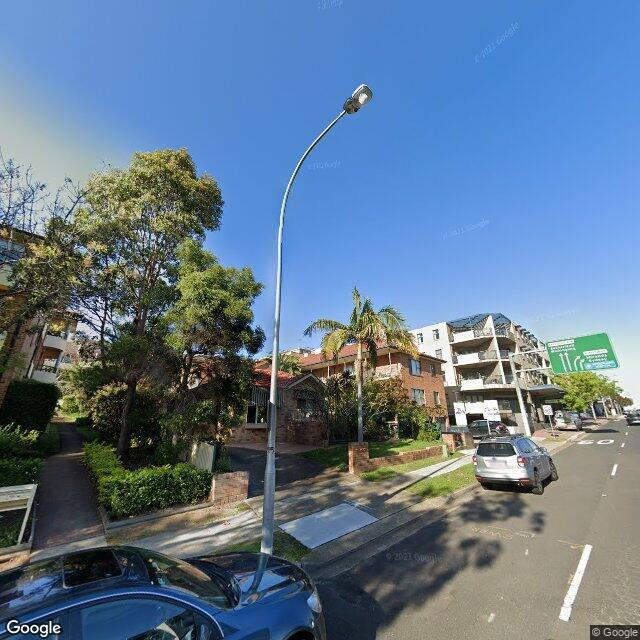steel-pole: (261, 189, 288, 555)
streetlight: (286, 85, 374, 193)
